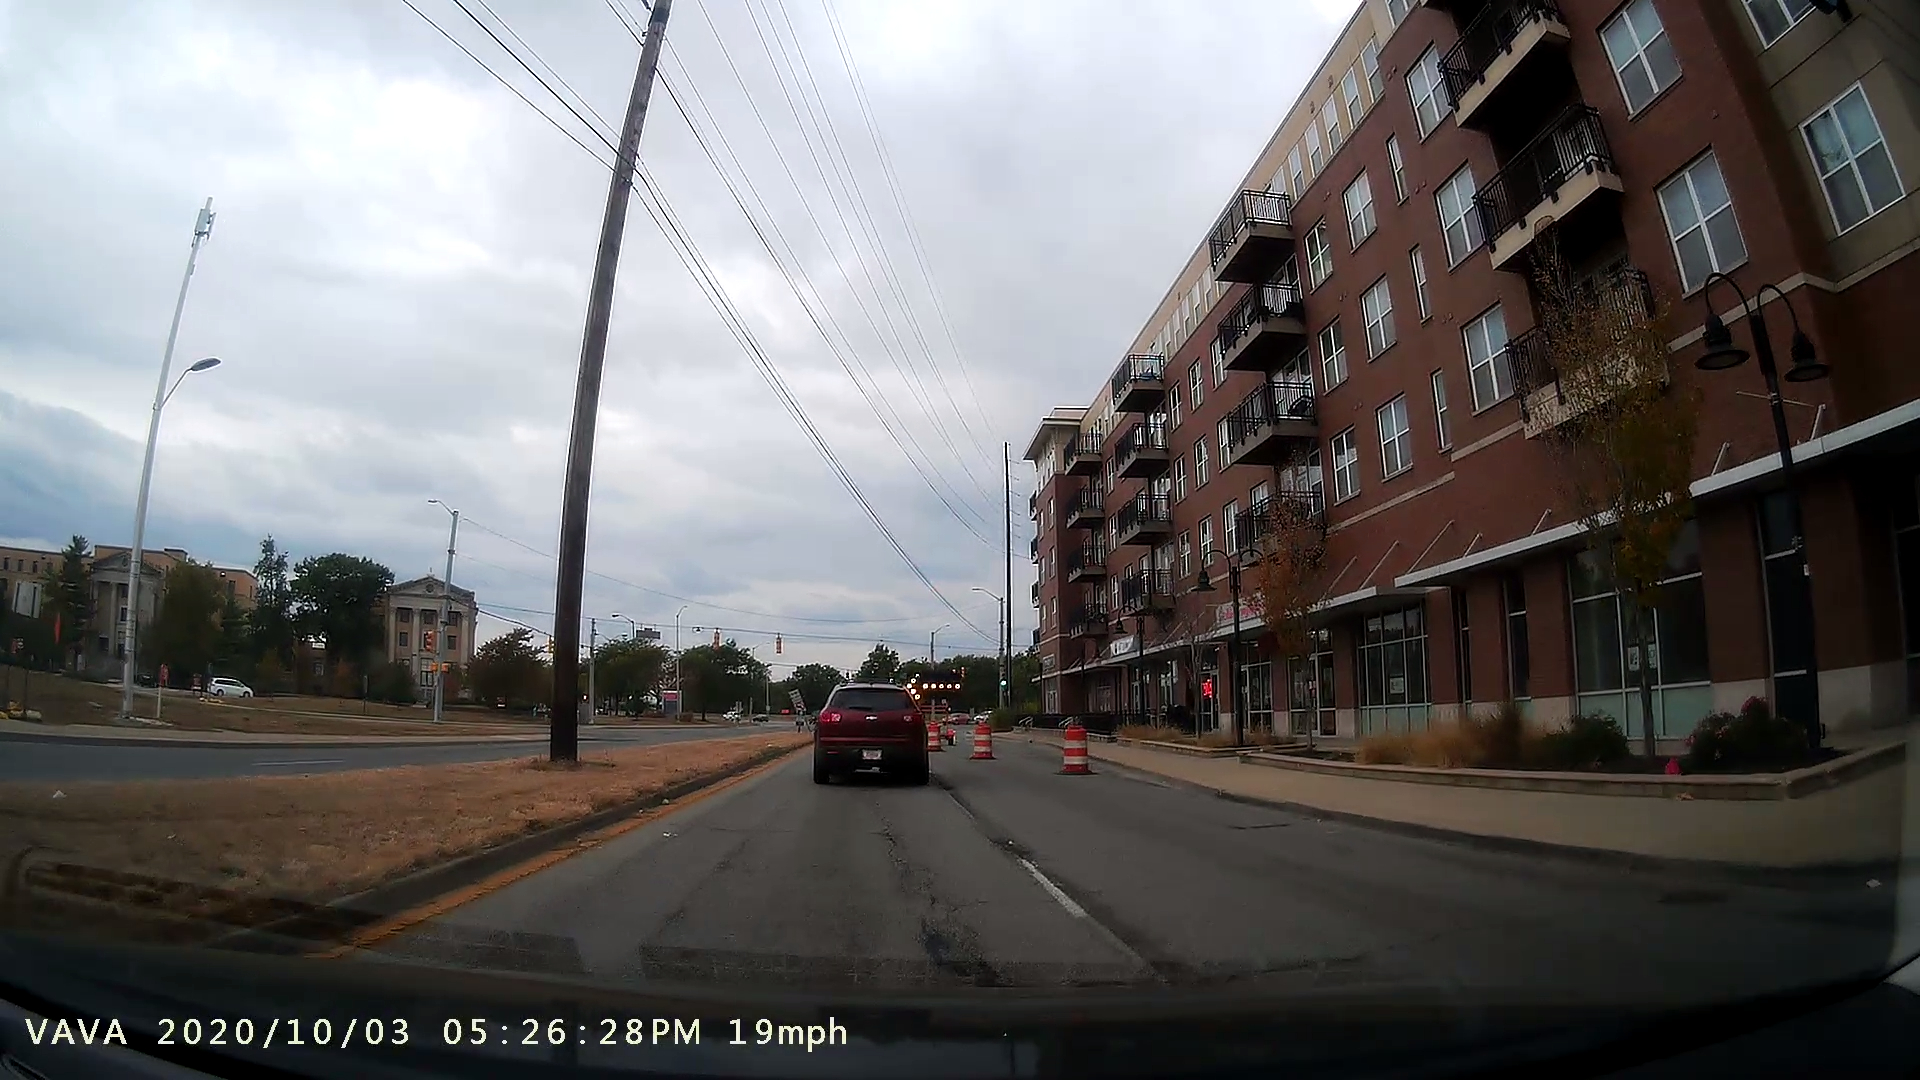const_barrel: (1044, 713, 1101, 782)
